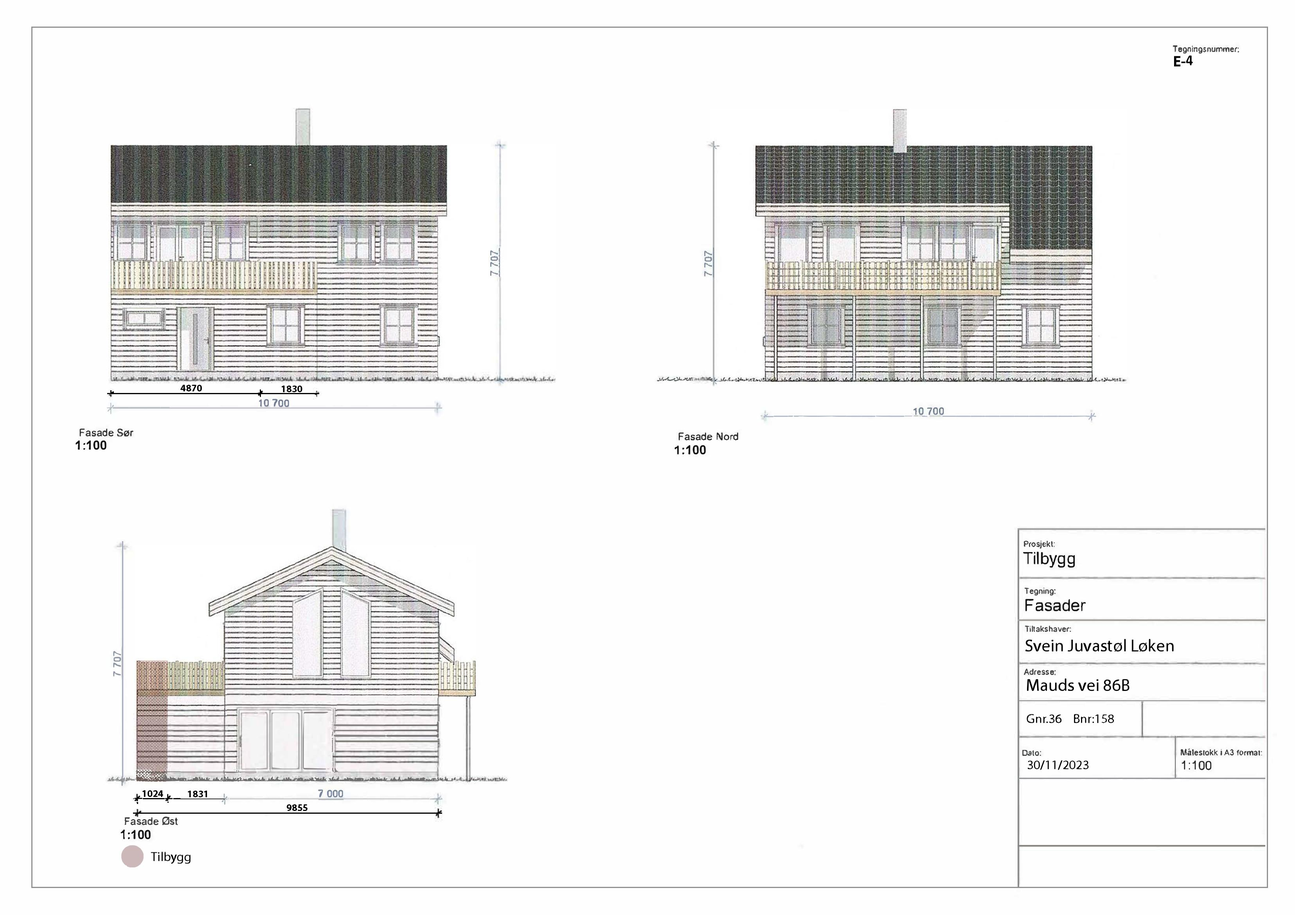fasade: (121, 500, 500, 796), (739, 99, 1111, 391), (103, 105, 473, 396)
